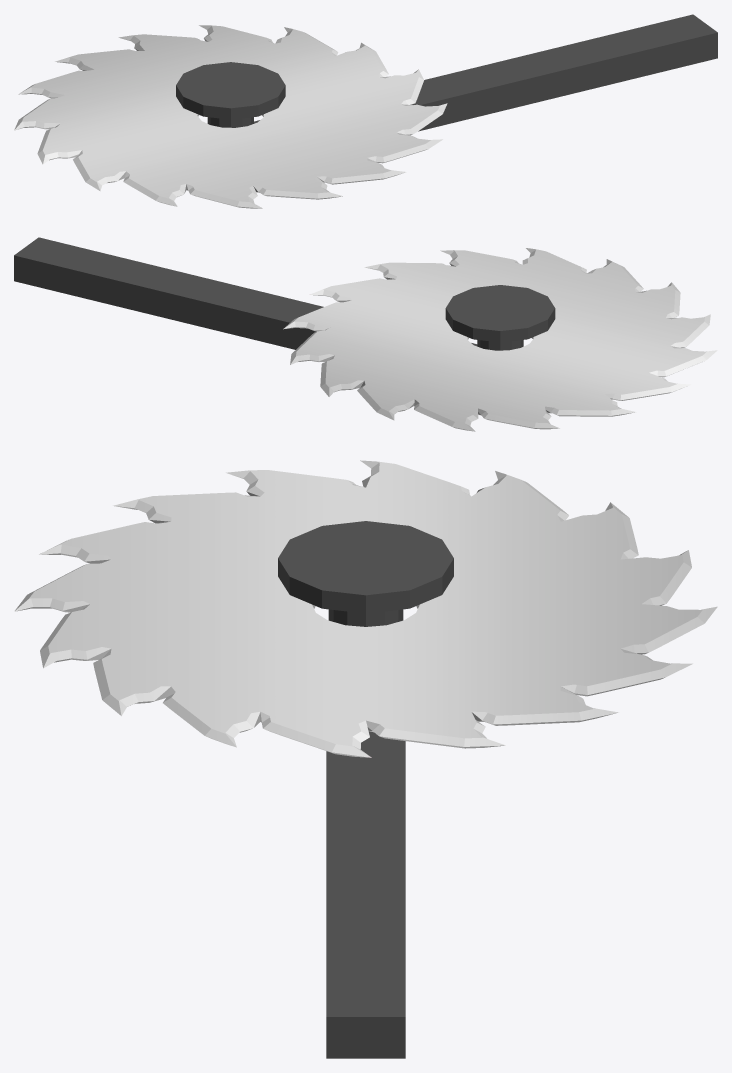
Rendered from SM_Wpn_SawBlade.fbx.
3 renders of one model, top to bottom at view 1: azimuth 30°, elevation 25°; view 2: azimuth 150°, elevation 25°; view 3: azimuth 270°, elevation 25°, orthographic. The views are drawn at different scales.
Parts seen in each view (by area): view 1: SM_Wpn_SawBlade, SM_Wpn_SawBlade.001; view 2: SM_Wpn_SawBlade, SM_Wpn_SawBlade.001; view 3: SM_Wpn_SawBlade, SM_Wpn_SawBlade.001.
Part boxes in pixels (<box>): SM_Wpn_SawBlade: <box>14,25,447,208</box>; SM_Wpn_SawBlade.001: <box>176,14,717,131</box>; SM_Wpn_SawBlade: <box>283,248,717,431</box>; SM_Wpn_SawBlade.001: <box>14,237,555,350</box>; SM_Wpn_SawBlade: <box>14,460,717,757</box>; SM_Wpn_SawBlade.001: <box>278,521,453,1058</box>.
Bounding box in the file's own units: 2.24 × 0.2573 × 1.28.
